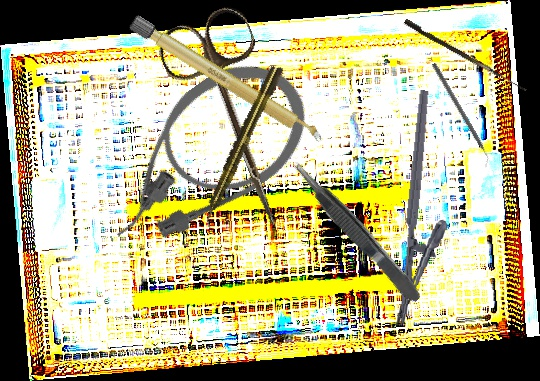Cannula: (73, 39, 330, 269)
Chopper: (426, 62, 494, 169)
Handpiece: (196, 62, 286, 230)
Hook Surgical: (402, 18, 530, 92)
Iris Scissors: (152, 1, 322, 241)
Needle Holder: (394, 89, 462, 330)
Scalpel Handle: (127, 13, 327, 148)
Tissue Forceps: (286, 154, 426, 309)
